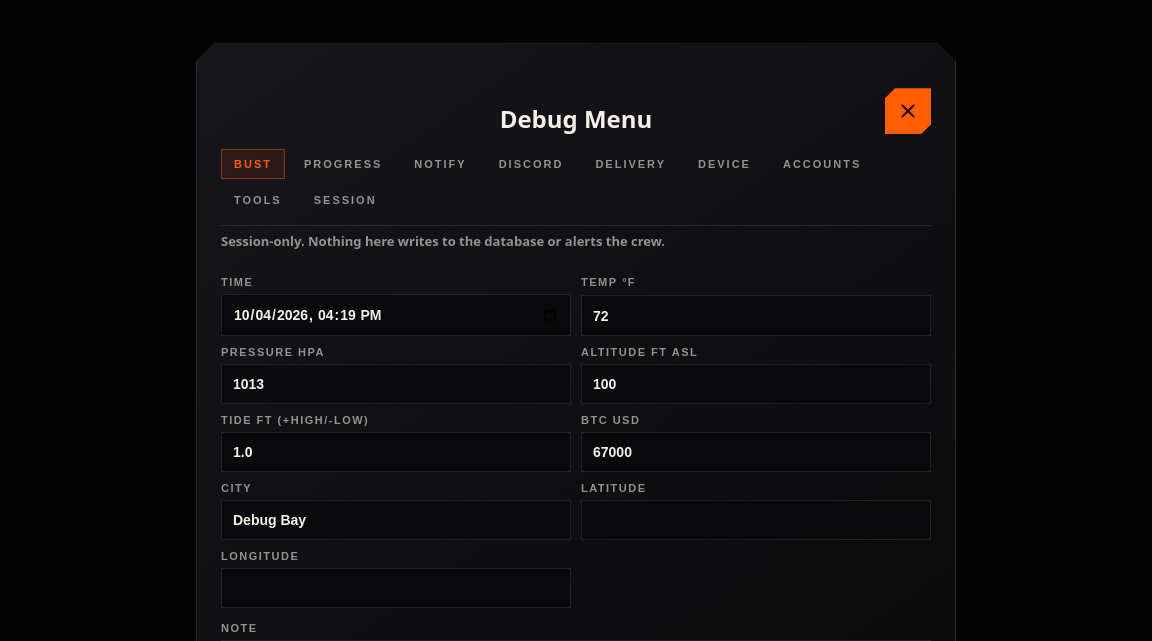
DebugMenu › lists the crew alphabetically and needs both a user and a long password
Step 1. Click the tab "ACCOUNTS" → (822, 164), box [770,149,874,179]
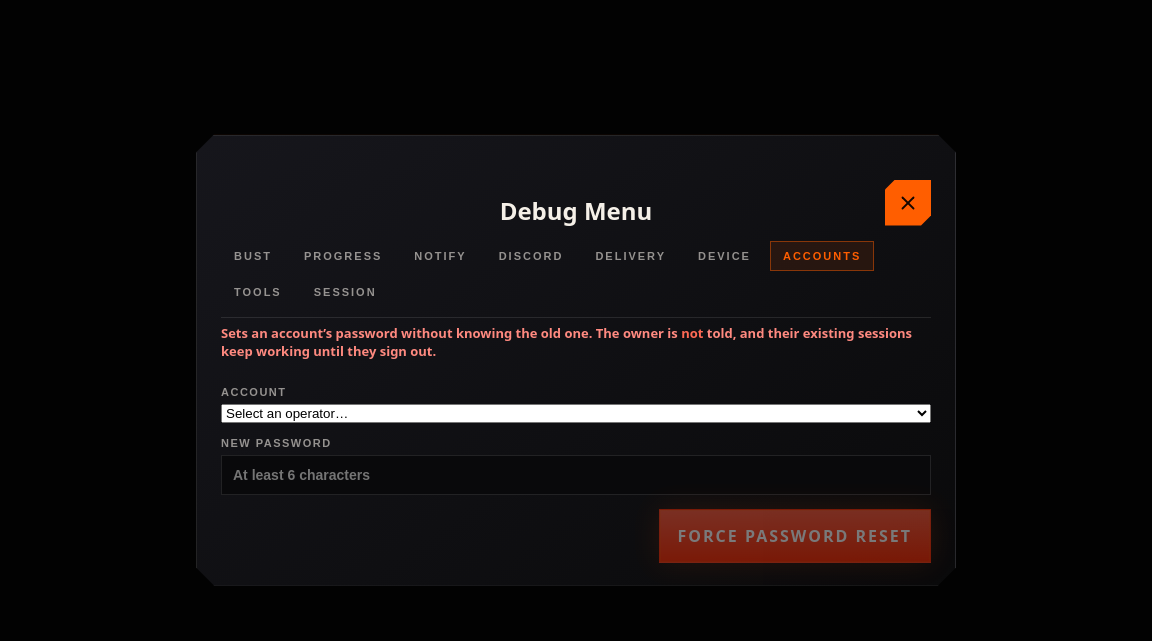
Check: the button "FORCE PASSWORD RESET" is disabled, box [658,508,931,562]
Step 2. Select "Ann" in the dropdown labelled "Account" → (576, 413), box [221,404,931,422]
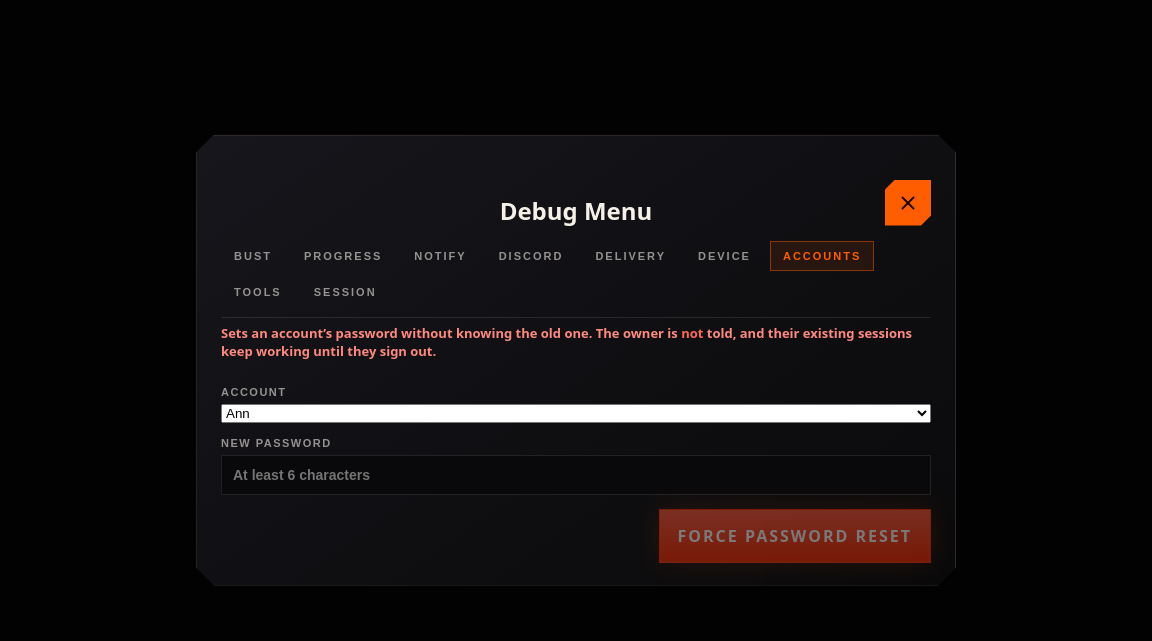
Step 3. Type "short" into the field labelled "New password" → (576, 474), box [221,454,931,494]
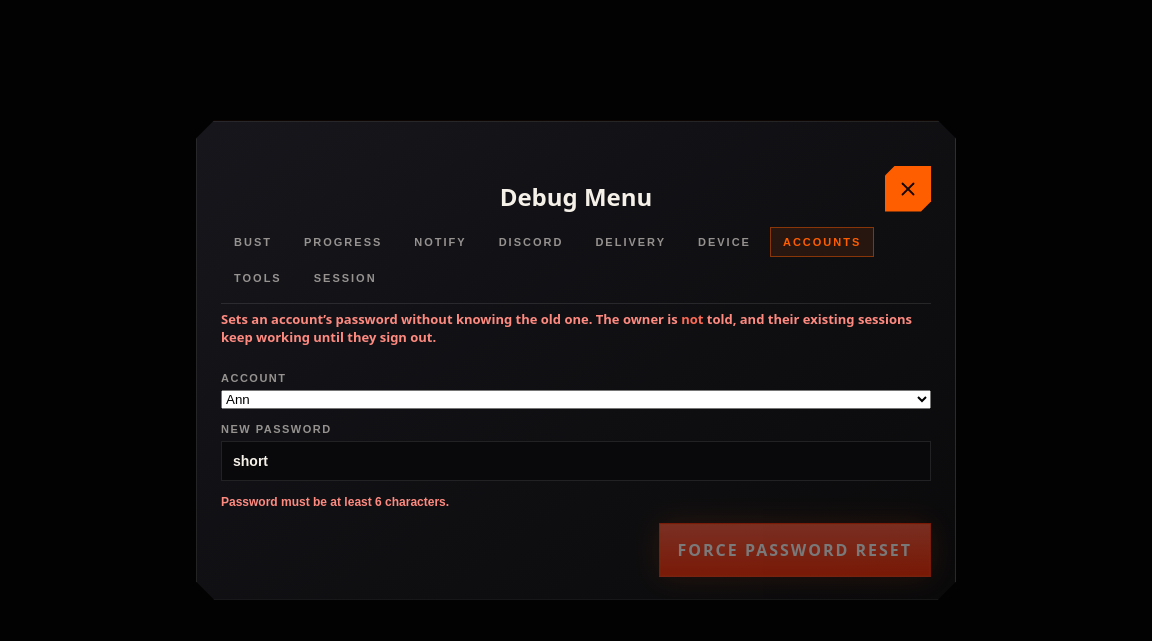
Check: the button "FORCE PASSWORD RESET" is disabled, box [658,522,931,576]
Check: the text "Password must be at least 6 characters." is shown, box [221,494,449,508]
Step 4. Replace the text in the field labelled "New password" with "long-enough" → (576, 460), box [221,440,931,480]
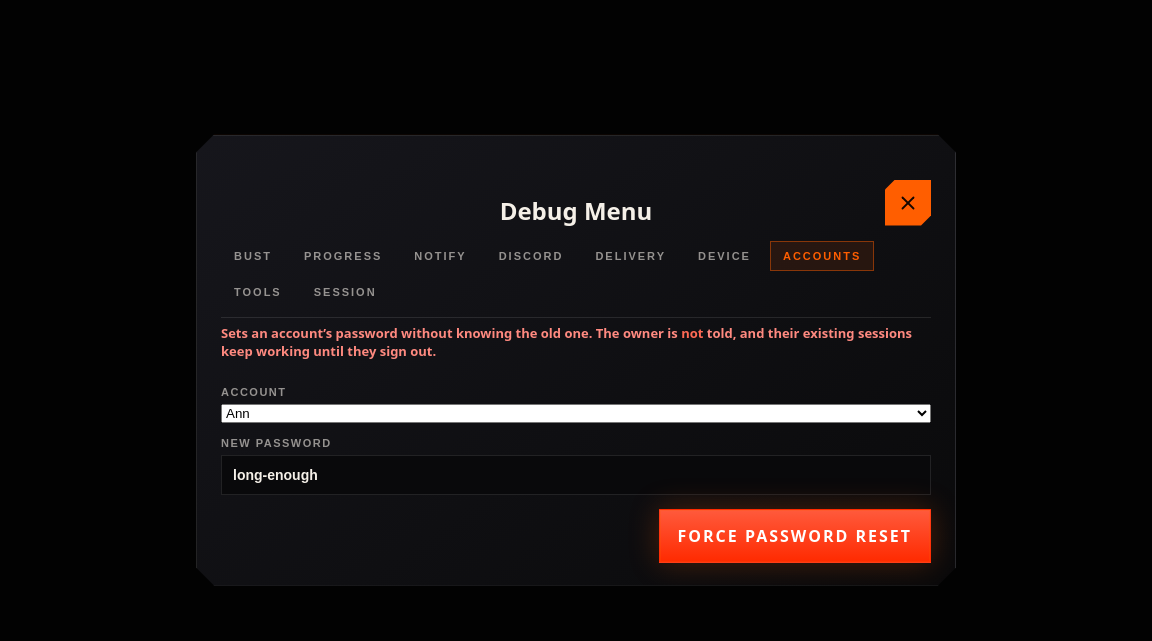
Check: the button "FORCE PASSWORD RESET" is enabled, box [658,508,931,562]
